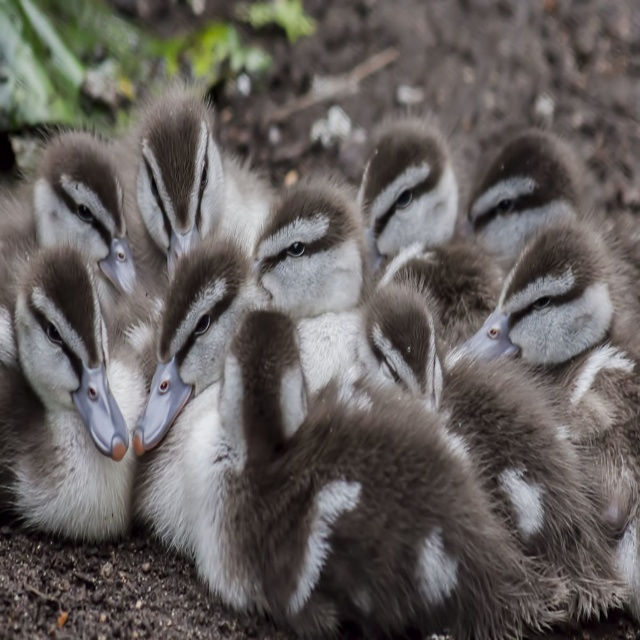Duck: (0, 85, 639, 639)
